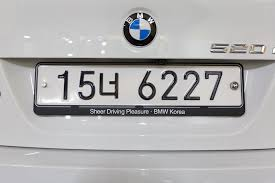car: (30, 58, 249, 120)
